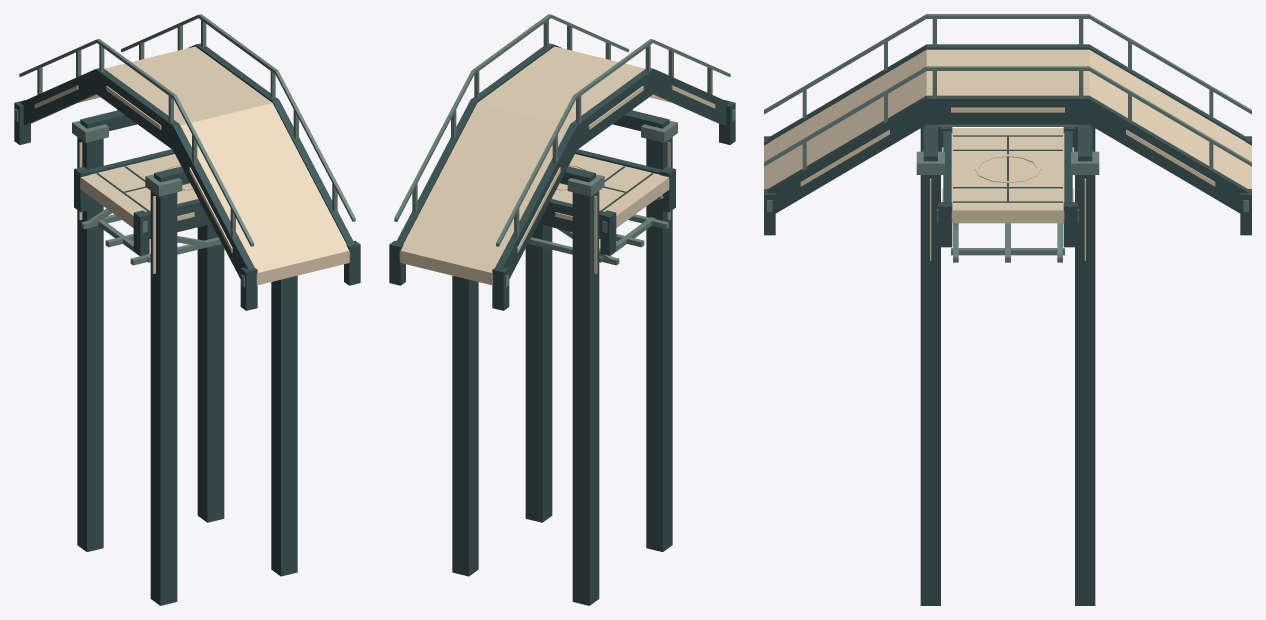
Rendered from Crossing_lab2.glb.
3 renders of one model, left to right at view 1: azimuth 30°, elevation 25°; view 2: azimuth 150°, elevation 25°; view 3: azimuth 270°, elevation 25°, orthographic. The views are drawn at different scales.
Visible parts, largest first — view 1: Crossing; view 2: Crossing; view 3: Crossing.
Part boxes in pixels (left/top/right/bottom): Crossing: left=14, top=14, right=360, bottom=605; Crossing: left=389, top=14, right=735, bottom=605; Crossing: left=764, top=14, right=1251, bottom=605.
Size of the model in its own units: 4.82 by 14.38 by 12.
